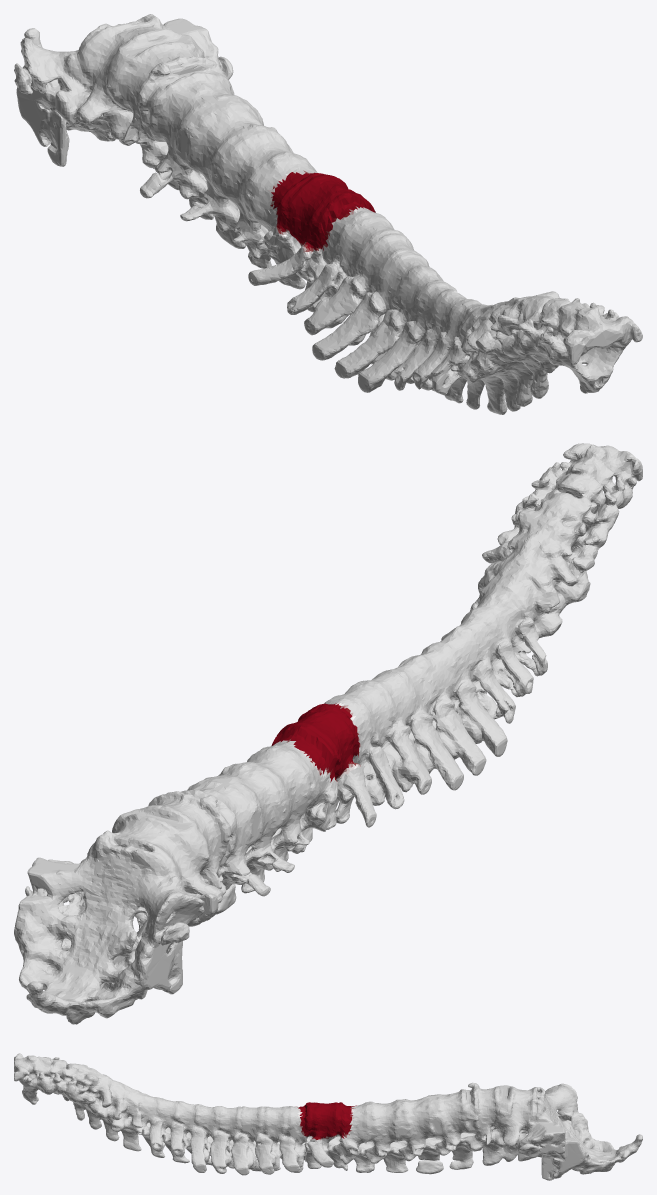
The model's file is SpondyPainting.obj.
3 views of the same model, one above another, from view 1: azimuth 30°, elevation 25°; view 2: azimuth 150°, elevation 25°; view 3: azimuth 270°, elevation 25° (orthographic). The views are drawn at different scales.
Visible parts, largest first — view 1: obj1; view 2: obj1; view 3: obj1.
Boxes of the visible parts, box(x1,y1,x2,y2) form: obj1: box(14, 14, 642, 414); obj1: box(14, 443, 642, 1024); obj1: box(14, 1053, 642, 1180).
Size of the model in its own units: 57.92 by 64.85 by 325.
